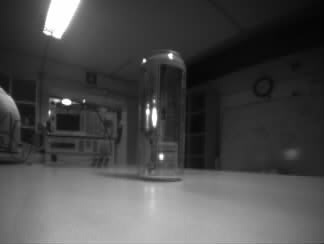Tin can: (135, 48, 190, 182)
